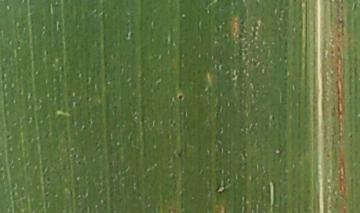tarspot: (175, 92, 186, 102)
